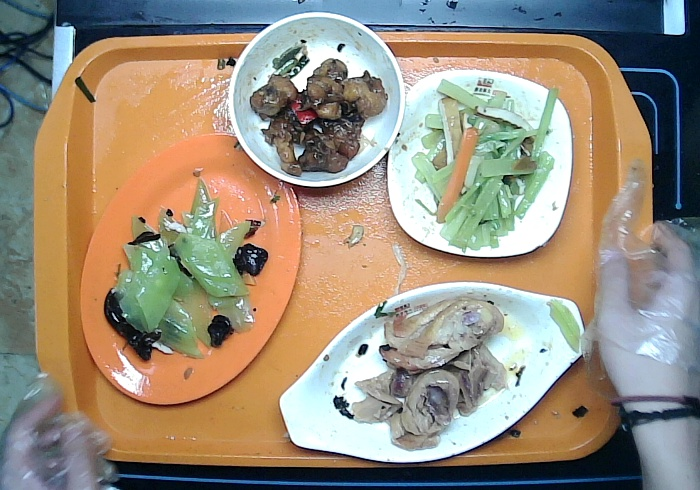NLDX-Bai_Se_Xiao_Fang_Die: (379, 64, 575, 262)
NLDX-Fan_Wan: (228, 7, 414, 192)
NLDX-Ju_Se_Pan: (72, 131, 308, 406)
NLDX-Yu_Pan: (277, 278, 595, 467)
